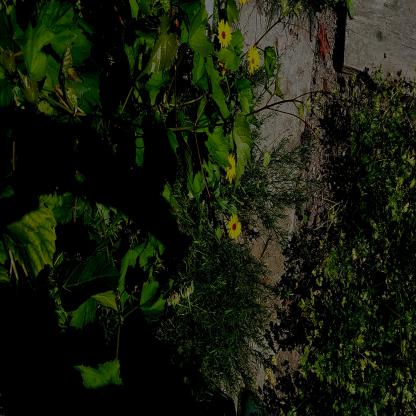marigold: (217, 16, 233, 49), (224, 150, 239, 185), (227, 210, 242, 242), (218, 49, 233, 76), (247, 46, 261, 74)
